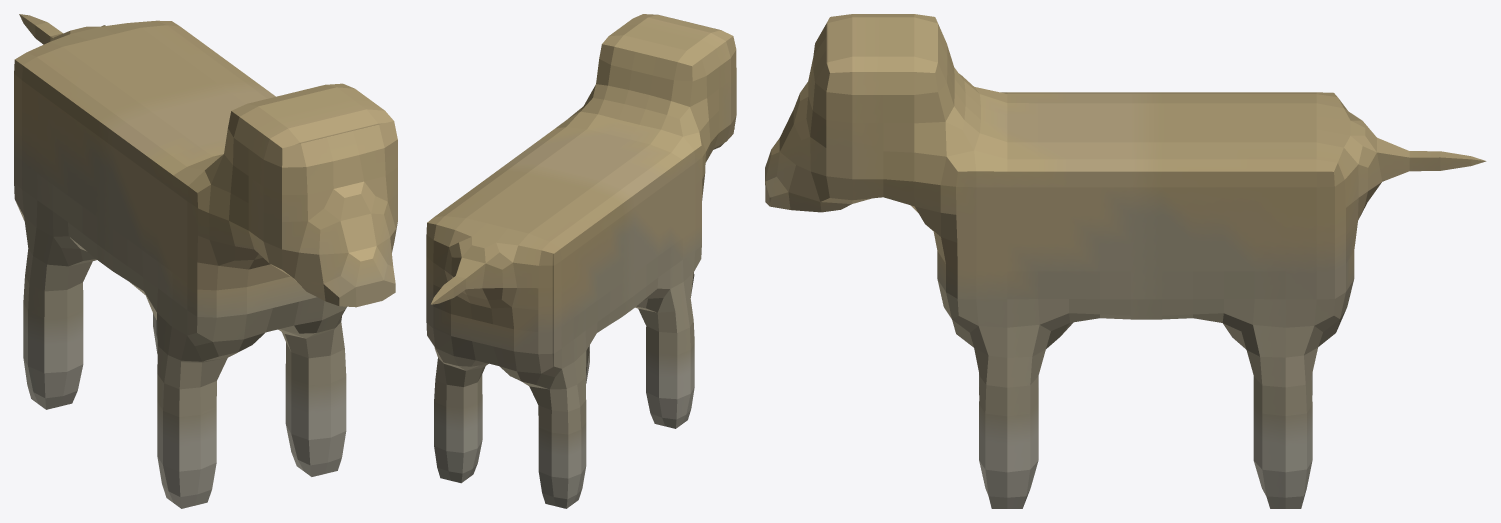
Rendered from wolfSummon.glb.
3 views of the same model, side by side, from view 1: azimuth 30°, elevation 25°; view 2: azimuth 150°, elevation 25°; view 3: azimuth 270°, elevation 25° (orthographic). The views are drawn at different scales.
Visible parts, largest first — view 1: geometry_0; view 2: geometry_0; view 3: geometry_0.
Boxes of the visible parts, x1=… form: geometry_0: x1=14, y1=14, x2=397, y2=508; geometry_0: x1=426, y1=14, x2=736, y2=508; geometry_0: x1=765, y1=14, x2=1486, y2=508.
Size of the model in its own units: 0.4437 by 1 by 1.51.
1 material, 1 textured.
